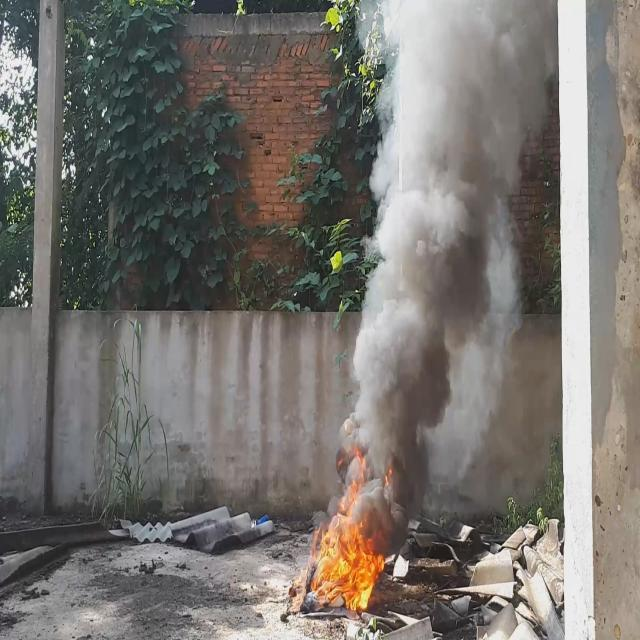Fire: (310, 448, 402, 610)
Smoke: (337, 0, 557, 528)
